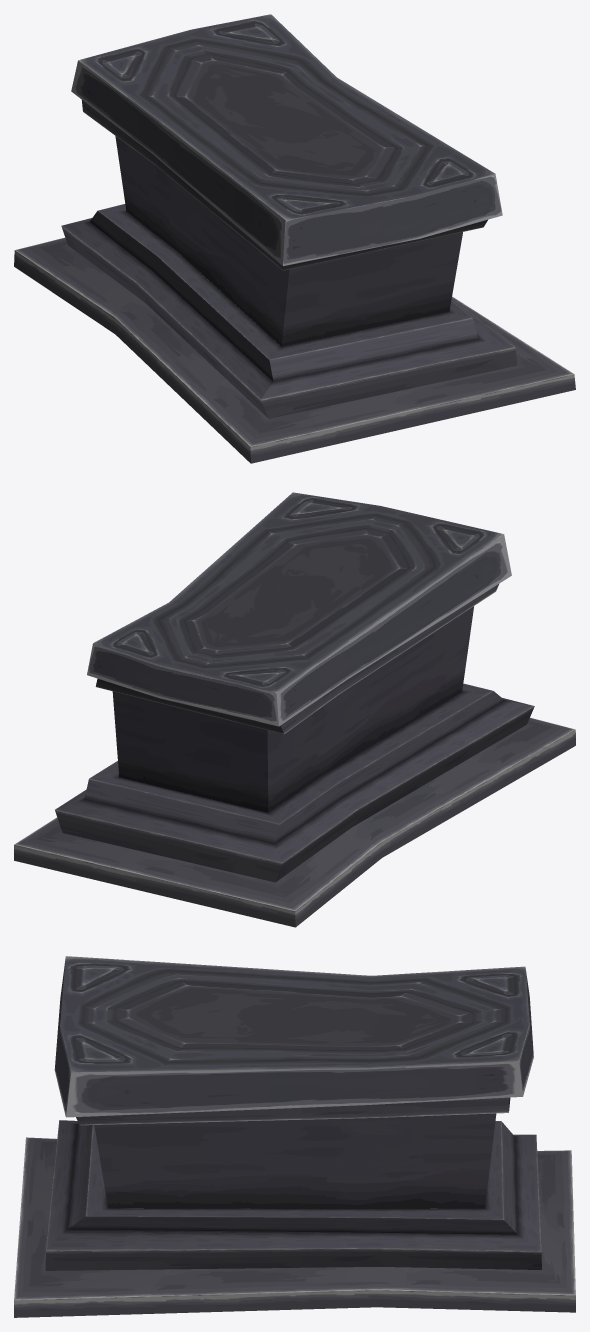
File: SM_PROP_tomb_dungeon_02.fbx
3 views of the same model, one above another, from view 1: azimuth 30°, elevation 25°; view 2: azimuth 150°, elevation 25°; view 3: azimuth 270°, elevation 25° (orthographic). The views are drawn at different scales.
Parts seen in each view (by area): view 1: SM_PROP_tomb_dungeon_02, SM_PROP_tomb_lid_dungeon_02; view 2: SM_PROP_tomb_dungeon_02, SM_PROP_tomb_lid_dungeon_02; view 3: SM_PROP_tomb_dungeon_02, SM_PROP_tomb_lid_dungeon_02.
Part boxes in pixels (x1,y1,x2,y2): SM_PROP_tomb_dungeon_02: (14, 100, 575, 463); SM_PROP_tomb_lid_dungeon_02: (71, 14, 502, 265); SM_PROP_tomb_dungeon_02: (14, 584, 575, 927); SM_PROP_tomb_lid_dungeon_02: (87, 492, 511, 726); SM_PROP_tomb_dungeon_02: (14, 1097, 575, 1317); SM_PROP_tomb_lid_dungeon_02: (54, 956, 533, 1117).
Bounding box in the file's own units: 230 × 149 × 335.
